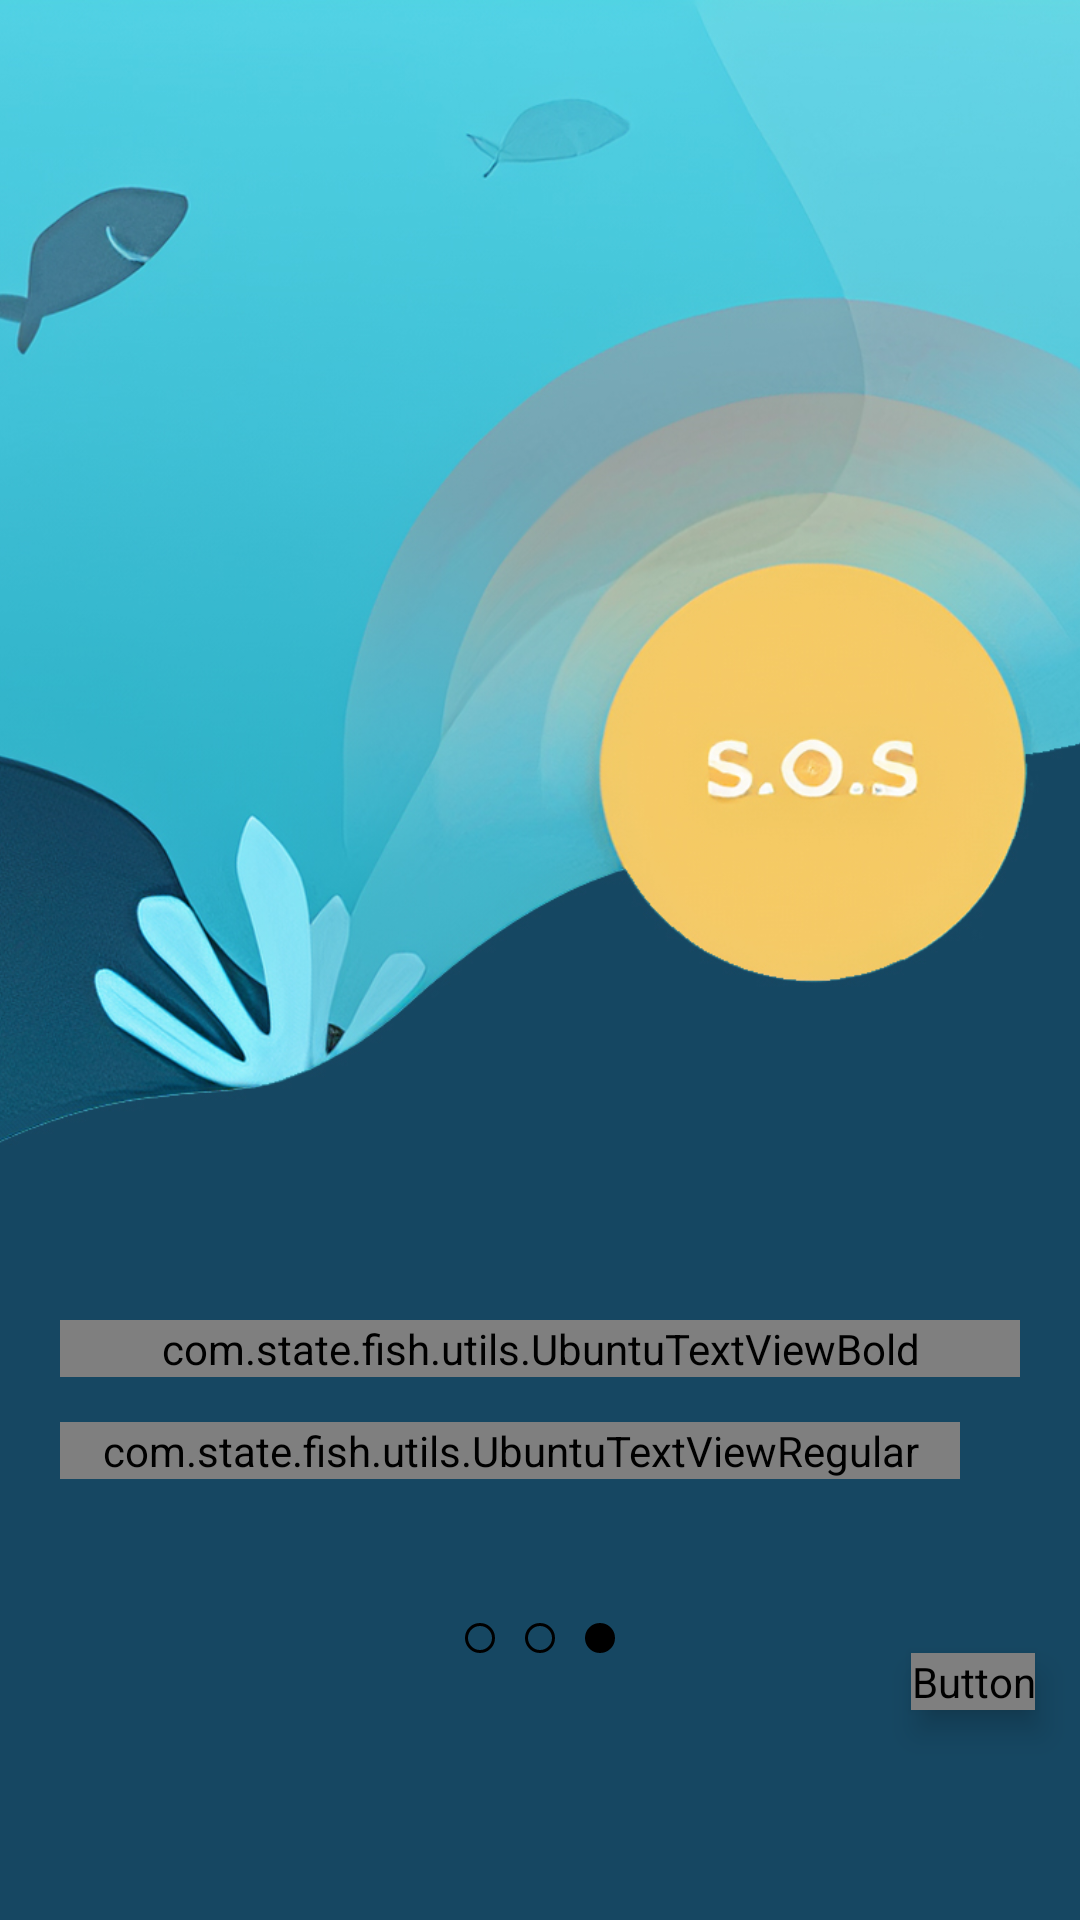

Where icons sit on this 1080 x 1920 app screen, as (x1, y1, x2, y2):
circle: (585, 1623, 615, 1653)
circle blank: (465, 1623, 495, 1653), (525, 1623, 555, 1653)
